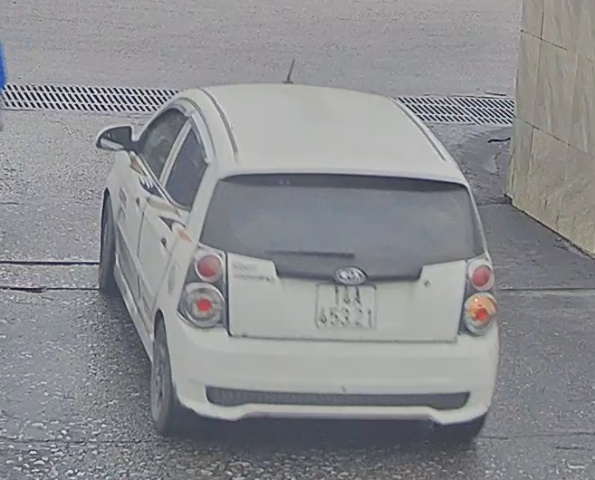vehicle plate: (314, 275, 378, 332)
